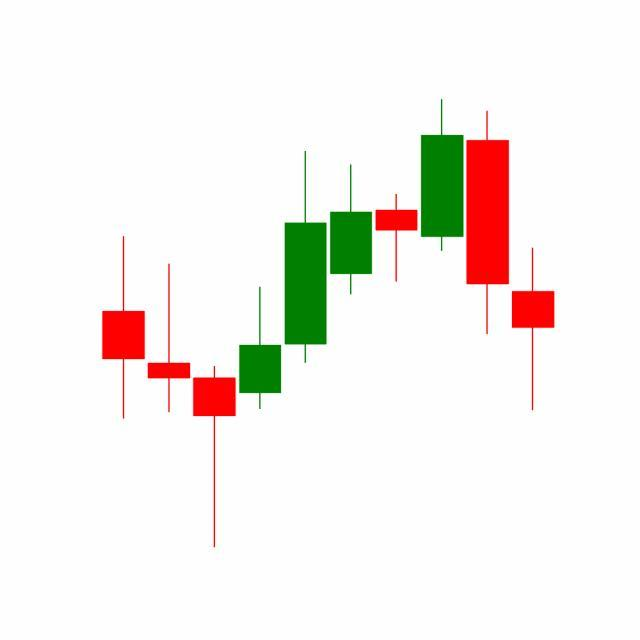Hikkake Pattern: (283, 100, 512, 369)
